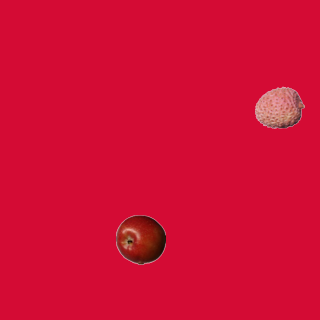Apple Braeburn: (115, 214, 165, 264)
Lychee: (254, 82, 304, 132)
